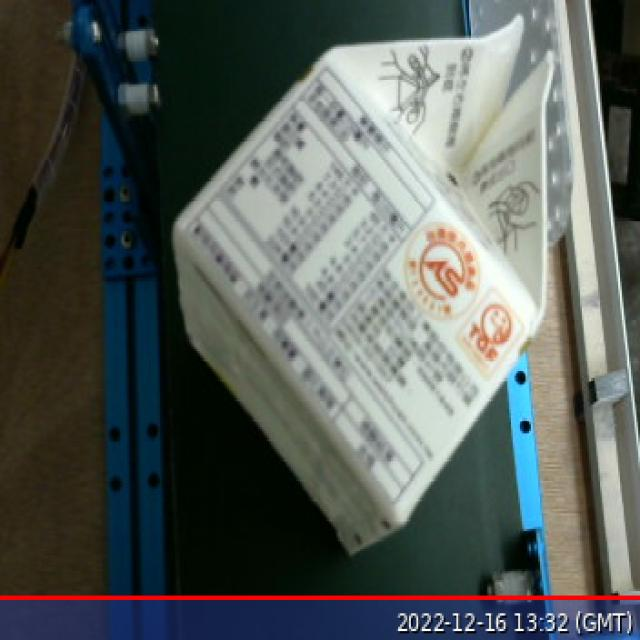non_white_jug: (168, 3, 562, 569)
